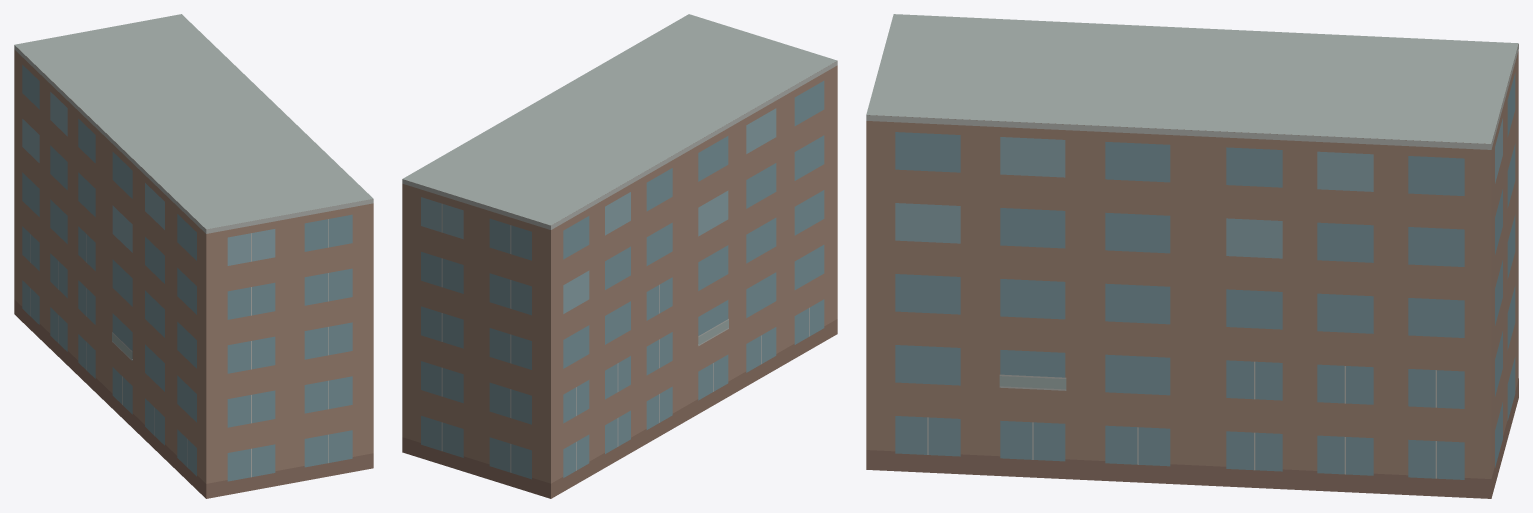
Rendered from survey-upis-32643752.glb.
The picture shows the model from 3 angles, left to right: view 1: azimuth 30°, elevation 25°; view 2: azimuth 150°, elevation 25°; view 3: azimuth 270°, elevation 25°; orthographic projection. The views are drawn at different scales.
Visible parts, largest first — view 1: survey-upis-32643752.tmp; view 2: survey-upis-32643752.tmp; view 3: survey-upis-32643752.tmp.
Boxes of the visible parts, bbox=[...] form: survey-upis-32643752.tmp: bbox=[14, 14, 373, 498]; survey-upis-32643752.tmp: bbox=[402, 14, 837, 498]; survey-upis-32643752.tmp: bbox=[866, 14, 1518, 498].
Size of the model in its own units: 11.49 by 14.6 by 24.35.
